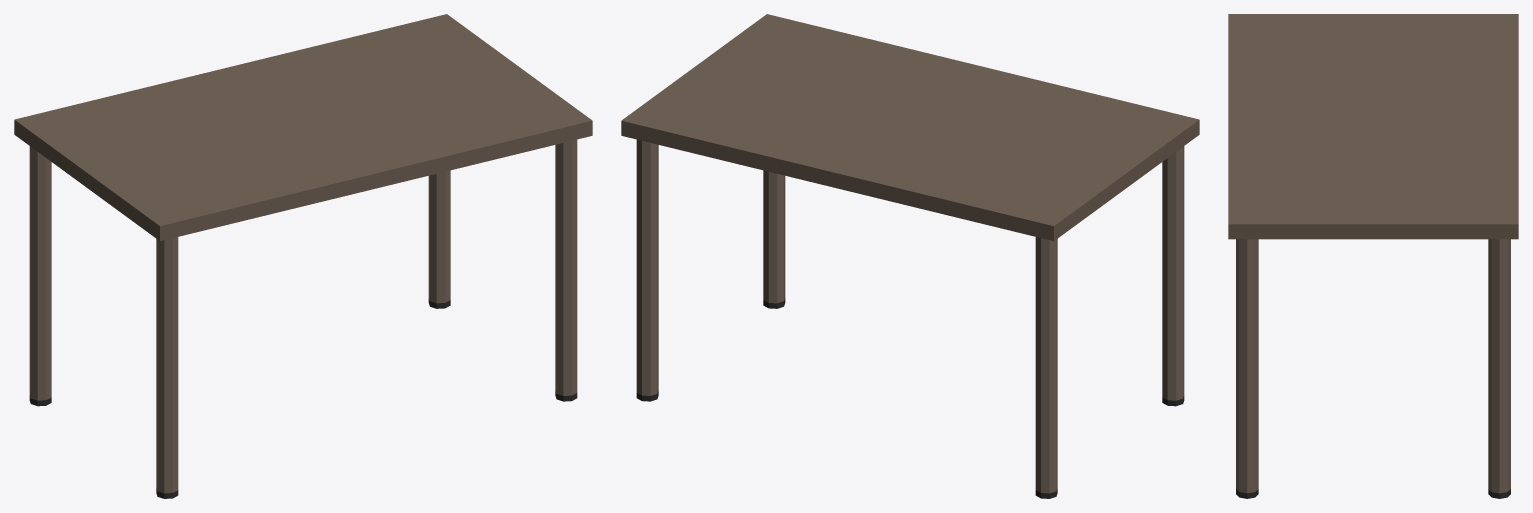
Rendered from PC_Table1_C2.fbx.
3 views of the same model, side by side, from view 1: azimuth 30°, elevation 25°; view 2: azimuth 150°, elevation 25°; view 3: azimuth 270°, elevation 25° (orthographic).
Parts seen in each view (by area): view 1: PC_Table1_C2; view 2: PC_Table1_C2; view 3: PC_Table1_C2.
Boxes of the visible parts, x1,y1,x2,y2 form: PC_Table1_C2: (14,14,592,498); PC_Table1_C2: (621,14,1199,498); PC_Table1_C2: (1228,14,1518,498).
Size of the model in its own units: 120 by 74 by 70.
